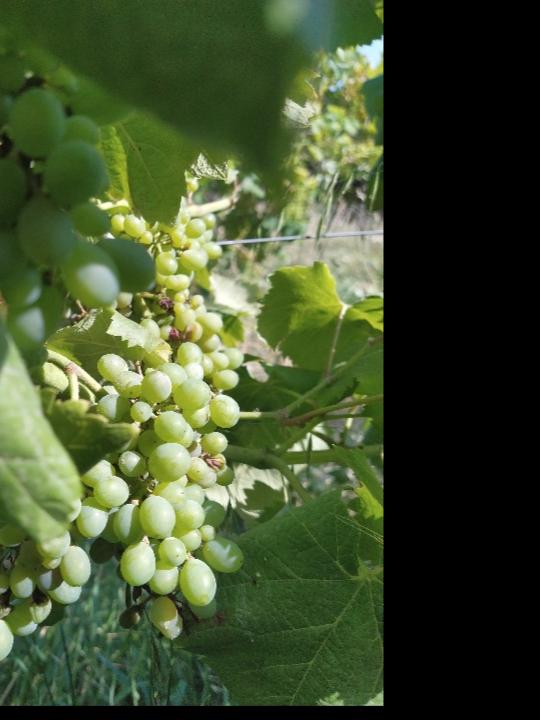grape: (0, 311, 246, 669)
